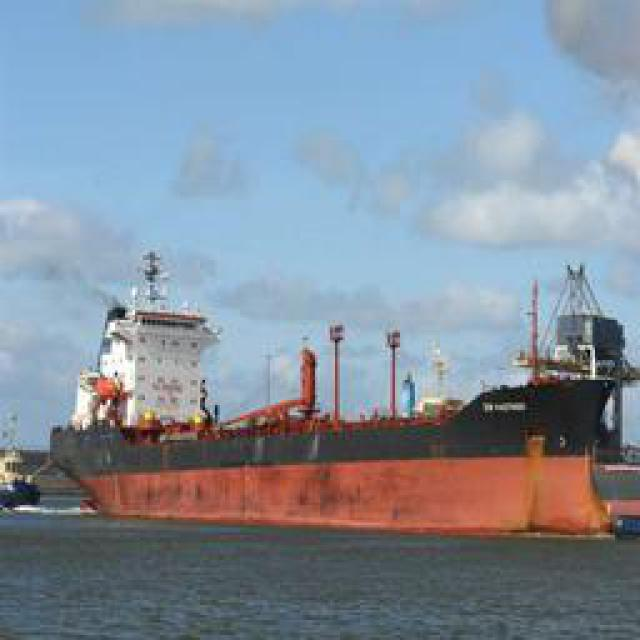Ship: (41, 255, 634, 543)
